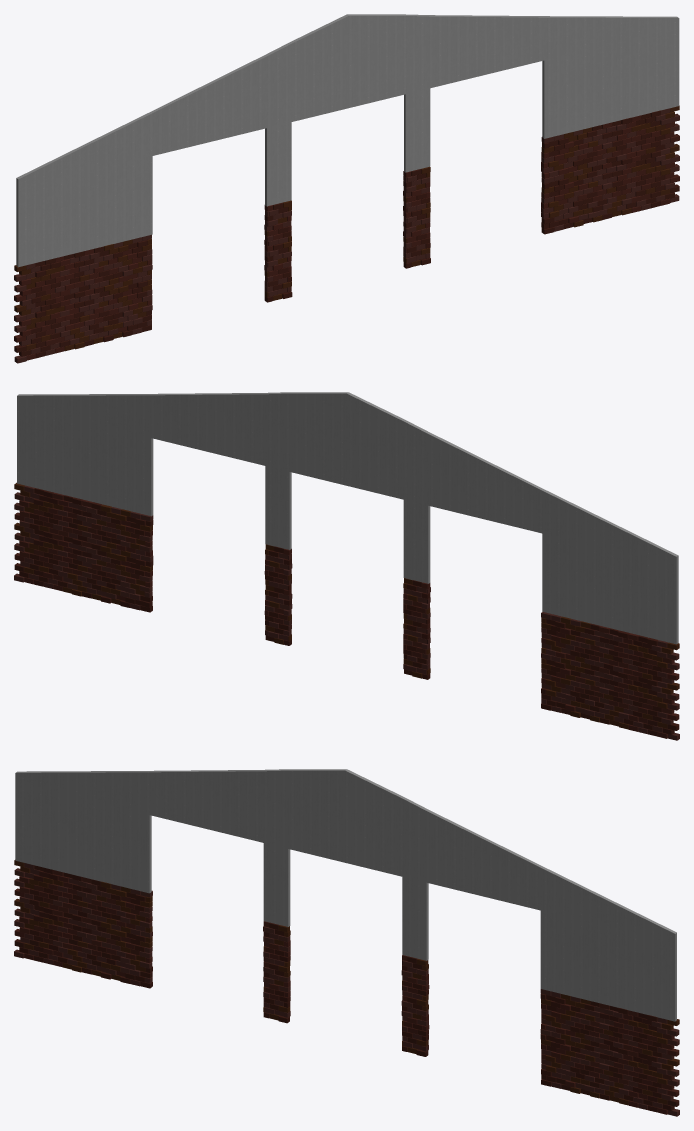
Rendered from Front_Walls.fbx.
3 views of the same model, one above another, from view 1: azimuth 30°, elevation 25°; view 2: azimuth 150°, elevation 25°; view 3: azimuth 330°, elevation 25° (orthographic).
Parts seen in each view (by area): view 1: Wall_3, Cube.262, Cube.301, Cube.075, Cube.078; view 2: Wall_3, Cube.262, Cube.301, Cube.078, Cube.075; view 3: Wall_3, Cube.262, Cube.301, Cube.078, Cube.075.
Part boxes in pixels (box(x1,y1,x2,y2)): Wall_3: box(16, 14, 679, 267); Cube.262: box(541, 105, 679, 234); Cube.301: box(14, 234, 152, 363); Cube.075: box(403, 166, 430, 268); Cube.078: box(264, 200, 292, 302); Wall_3: box(17, 392, 678, 644); Cube.262: box(14, 482, 153, 612); Cube.301: box(541, 612, 679, 740); Cube.078: box(403, 578, 430, 679); Cube.075: box(264, 544, 292, 645); Wall_3: box(15, 769, 676, 1021); Cube.262: box(540, 989, 679, 1116); Cube.301: box(14, 860, 152, 988); Cube.078: box(263, 921, 290, 1023); Cube.075: box(401, 955, 429, 1056).
Bounding box in the file's own units: 2521 × 969 × 30.58.
